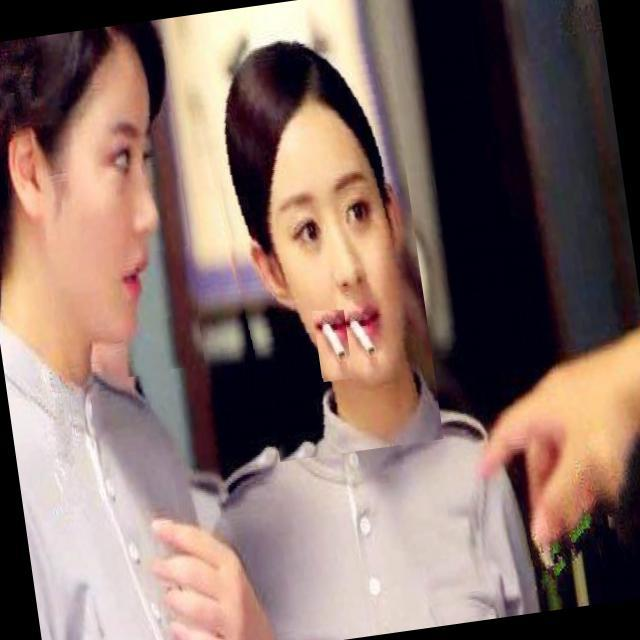cigarette: (312, 306, 354, 382)
